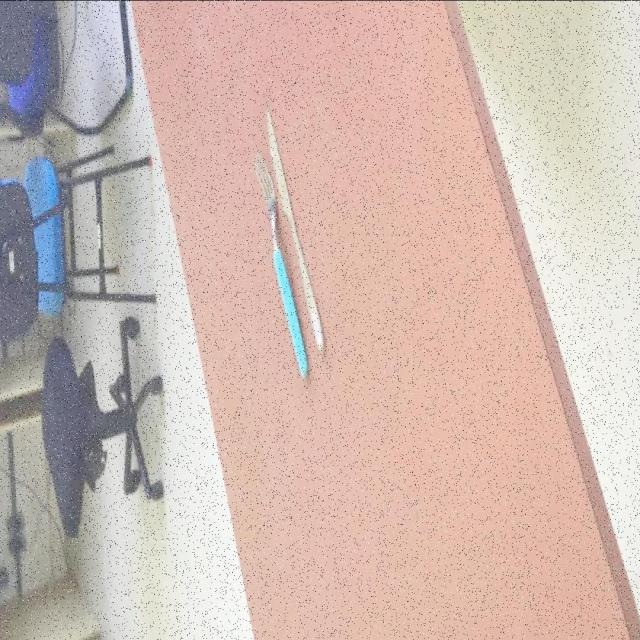Fork: (252, 155, 308, 382)
Knife: (263, 104, 325, 356), (251, 154, 309, 381)
